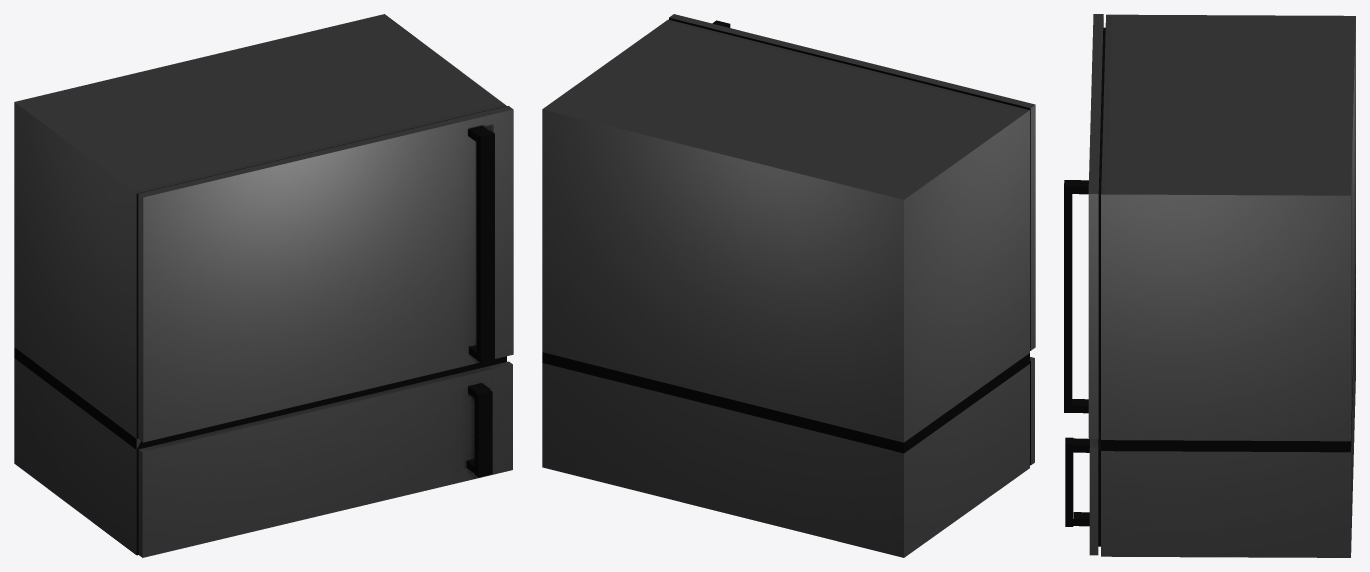
Rendered from refrigerator2.dae.
3 renders of one model, left to right at view 1: azimuth 30°, elevation 25°; view 2: azimuth 150°, elevation 25°; view 3: azimuth 270°, elevation 25°, orthographic.
Visible parts, largest first — view 1: Cube_004; view 2: Cube_004; view 3: Cube_004.
Boxes of the visible parts, x1,y1,x2,y2 form: Cube_004: [14, 14, 513, 557]; Cube_004: [542, 14, 1035, 557]; Cube_004: [1064, 14, 1355, 557].
Size of the model in its own units: 3.43 by 2.34 by 3.21.
Materials: 1 (1 with a texture image).
